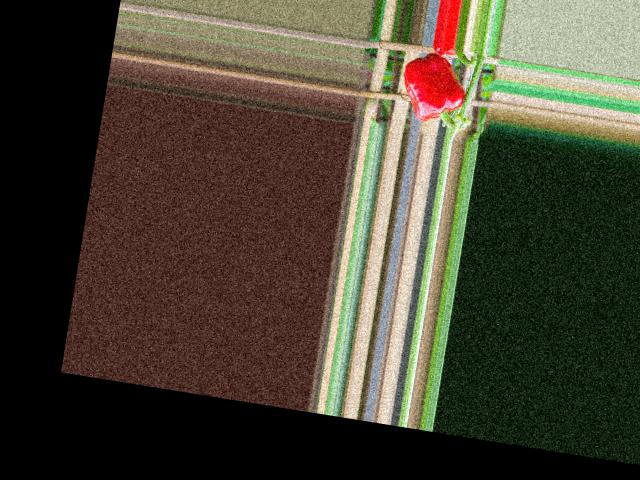bell_pepper: (392, 49, 475, 128)
